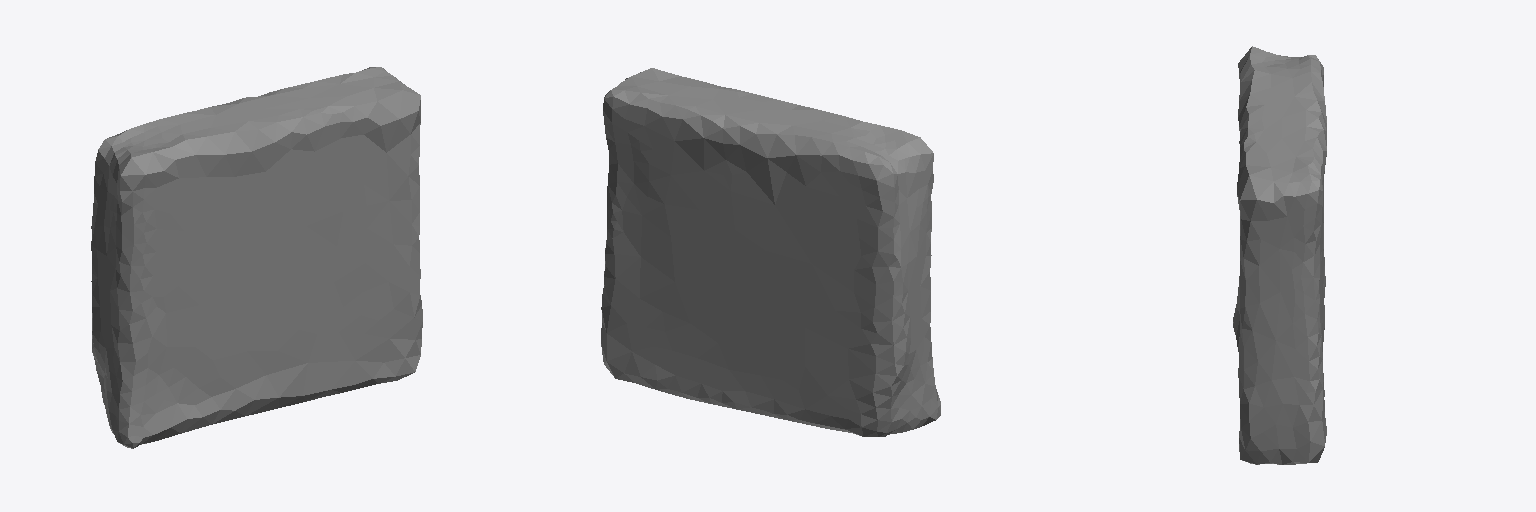
File: plataforma-2.obj
3 views of the same model, side by side, from view 1: azimuth 30°, elevation 25°; view 2: azimuth 150°, elevation 25°; view 3: azimuth 270°, elevation 25° (orthographic).
Parts seen in each view (by area): view 1: plataforma_2; view 2: plataforma_2; view 3: plataforma_2.
Part boxes in pixels (x1,y1,x2,y2): plataforma_2: (91,67,422,448); plataforma_2: (601,68,940,436); plataforma_2: (1233,46,1326,464).
Size of the model in its own units: 2.26 by 2.05 by 0.6026.